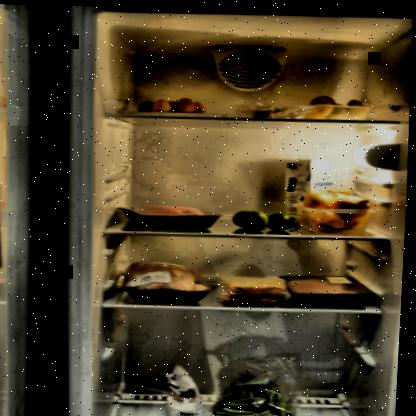chicken: (119, 257, 210, 297), (289, 273, 367, 299)
eggs: (136, 93, 206, 118)
green_beans: (215, 365, 305, 415)
ground_beef: (126, 200, 218, 228)
lime: (233, 204, 295, 230)
milk: (281, 153, 333, 224)
onion: (296, 184, 369, 231)
potato: (299, 91, 372, 120)
shrimp: (240, 99, 311, 118)
tomato: (287, 410, 359, 415)
